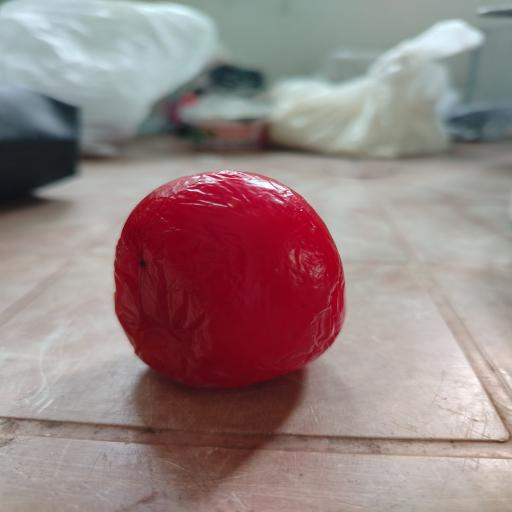spoiled: (115, 170, 345, 387)
